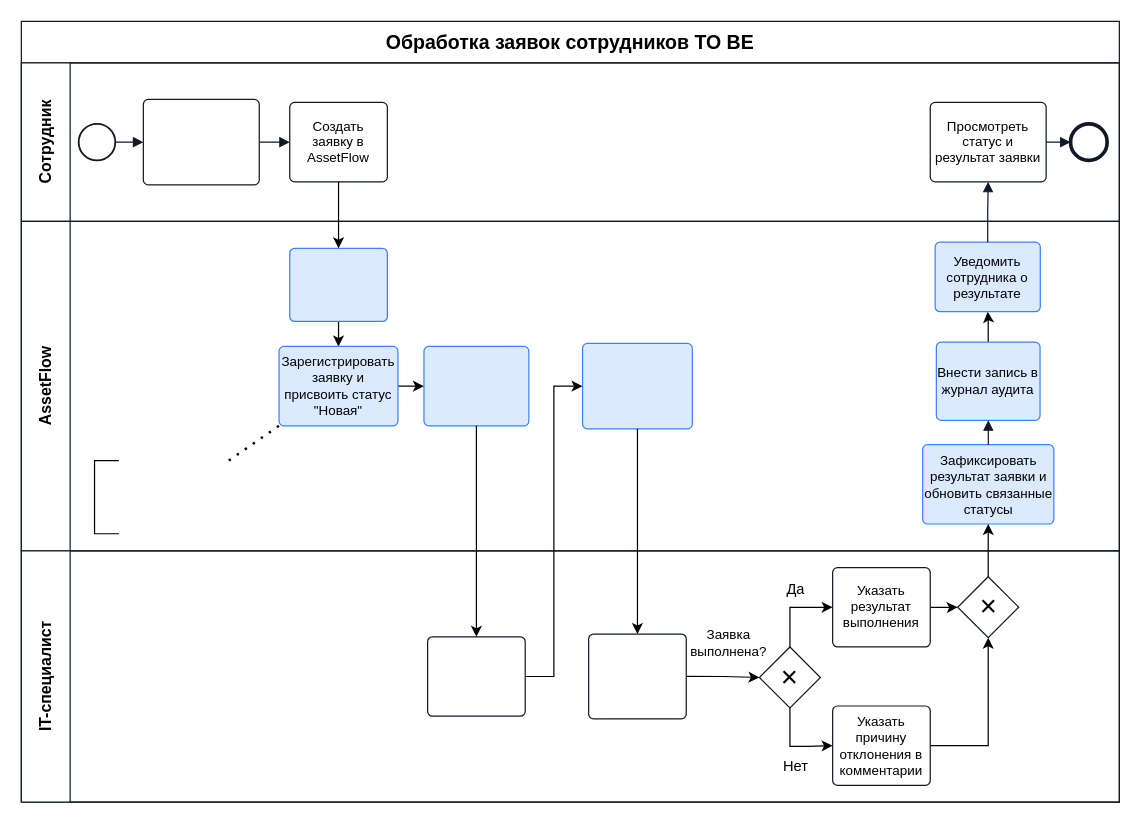
The diagram is 1141 pixels wide and 824 high, and some of its shapes have lost their labels. Here are the shapes that lost their labels. From the top down, the centre of each, then its label:
the point at 200,141: Обнаружить неисправность оборудования или потребность в ПО
the point at 338,284: Проверить данные заявки
the point at 476,385: Уведомить IT-специалиста о новой заявке
the point at 636,385: Изменить статус на "В работе" и уведомить сотрудника
the point at 106,496: Голубым цветом выделены автоматизированные операции системы AssetFlow
the point at 475,676: Назначить заявку на себя
the point at 636,676: Выполнить ремонт, установку или обновление ПО
